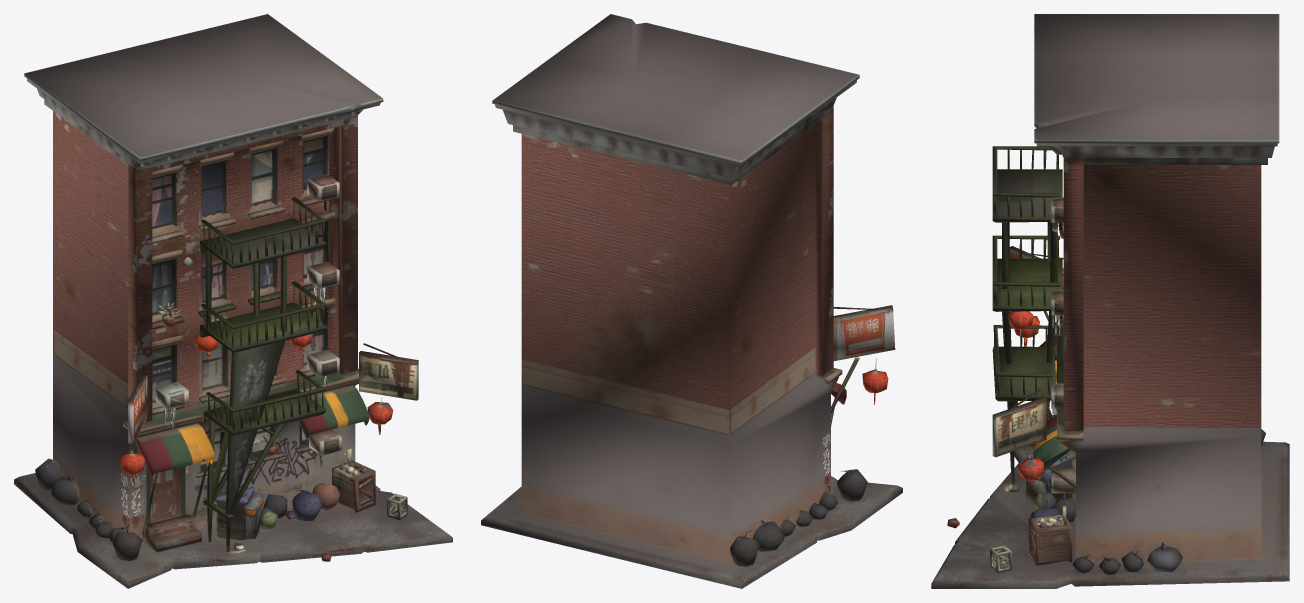
File: 019e4a16-6f29-7a3b-915b-b7a01cce6fae.glb
3 renders of one model, left to right at view 1: azimuth 30°, elevation 25°; view 2: azimuth 150°, elevation 25°; view 3: azimuth 270°, elevation 25°, orthographic. The views are drawn at different scales.
Visible parts, largest first — view 1: tripo_node_4383c27f-f3fa-4ffc-87c3-fbc46781ae39; view 2: tripo_node_4383c27f-f3fa-4ffc-87c3-fbc46781ae39; view 3: tripo_node_4383c27f-f3fa-4ffc-87c3-fbc46781ae39.
Boxes of the visible parts, x1,y1,x2,y2 form: tripo_node_4383c27f-f3fa-4ffc-87c3-fbc46781ae39: (14, 14, 452, 588); tripo_node_4383c27f-f3fa-4ffc-87c3-fbc46781ae39: (481, 14, 902, 588); tripo_node_4383c27f-f3fa-4ffc-87c3-fbc46781ae39: (931, 14, 1289, 588).
Bounding box in the file's own units: 0.7363 × 0.998 × 0.7402.
1 material, 1 textured.
